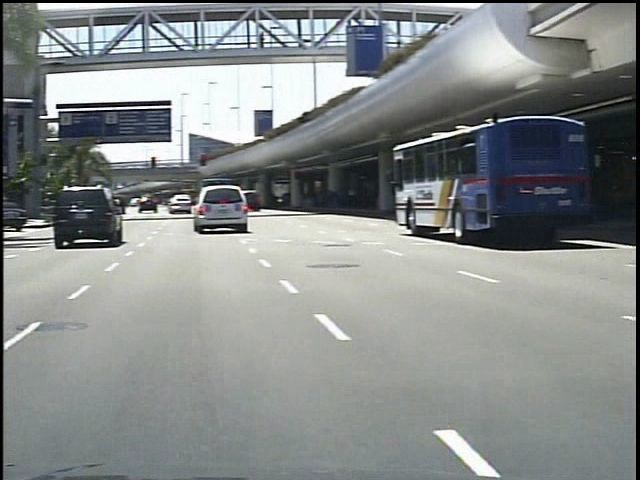person: (253, 30, 272, 54)
